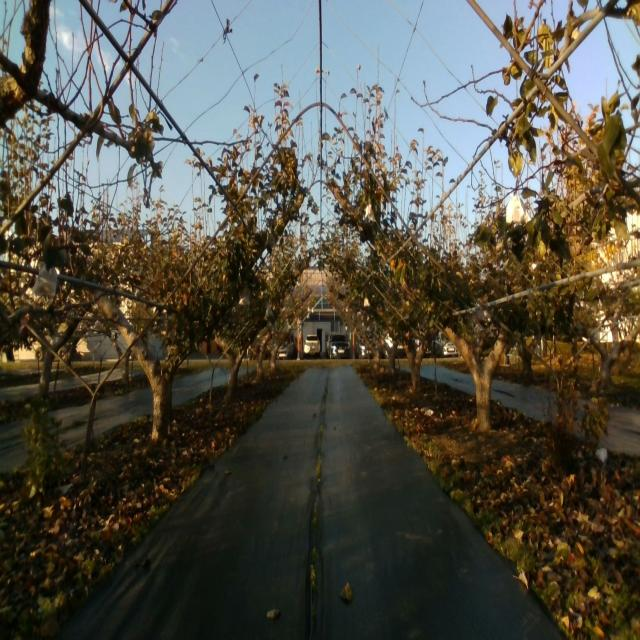pearbags: (33, 263, 58, 298), (506, 193, 532, 224), (365, 205, 376, 222)
